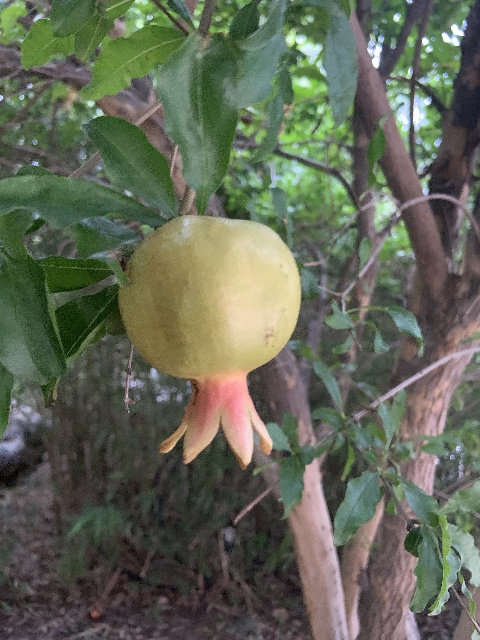mid-growth: (118, 215, 302, 470)
